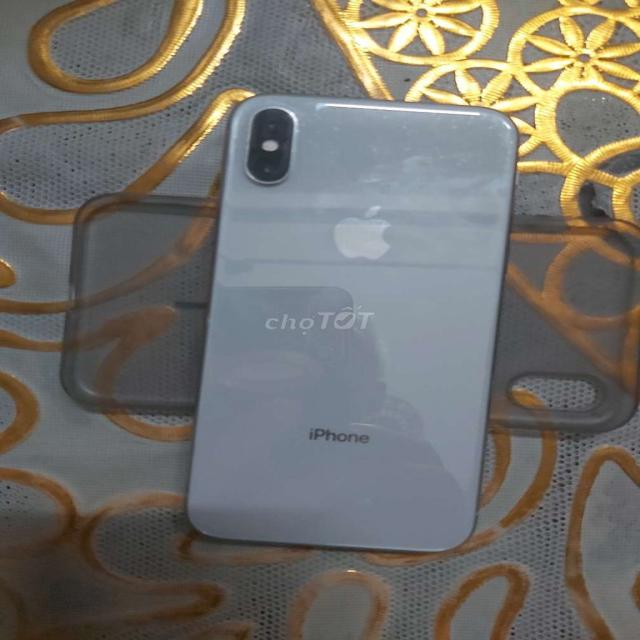scratch: (364, 98, 416, 138), (301, 115, 361, 144), (428, 110, 471, 140), (177, 521, 229, 545), (475, 108, 501, 142), (371, 138, 388, 162), (404, 144, 426, 162)
